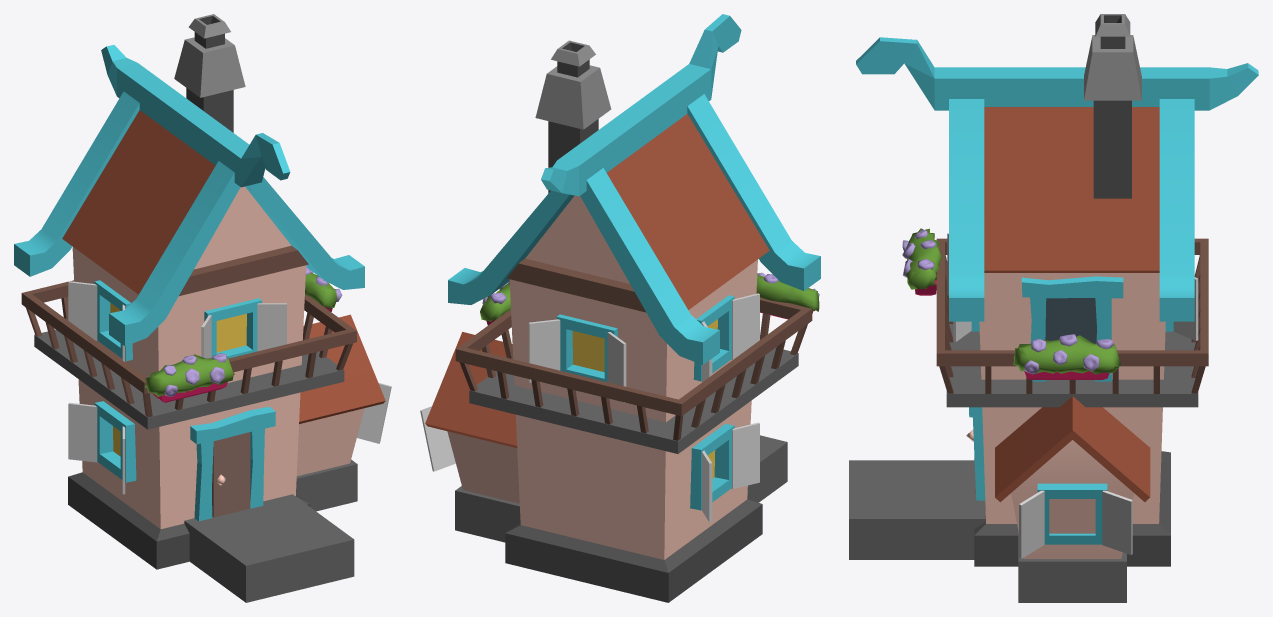
The model's file is house_017.fbx.
3 views of the same model, side by side, from view 1: azimuth 30°, elevation 25°; view 2: azimuth 150°, elevation 25°; view 3: azimuth 270°, elevation 25° (orthographic). The views are drawn at different scales.
Parts seen in each view (by area): view 1: house_017; view 2: house_017; view 3: house_017.
Boxes of the visible parts, x1,y1,x2,y2 form: house_017: (14,14,391,602); house_017: (420,14,820,602); house_017: (849,14,1258,602).
Size of the model in its own units: 707 by 756 by 1072.
Materials: 2 (2 with a texture image).
